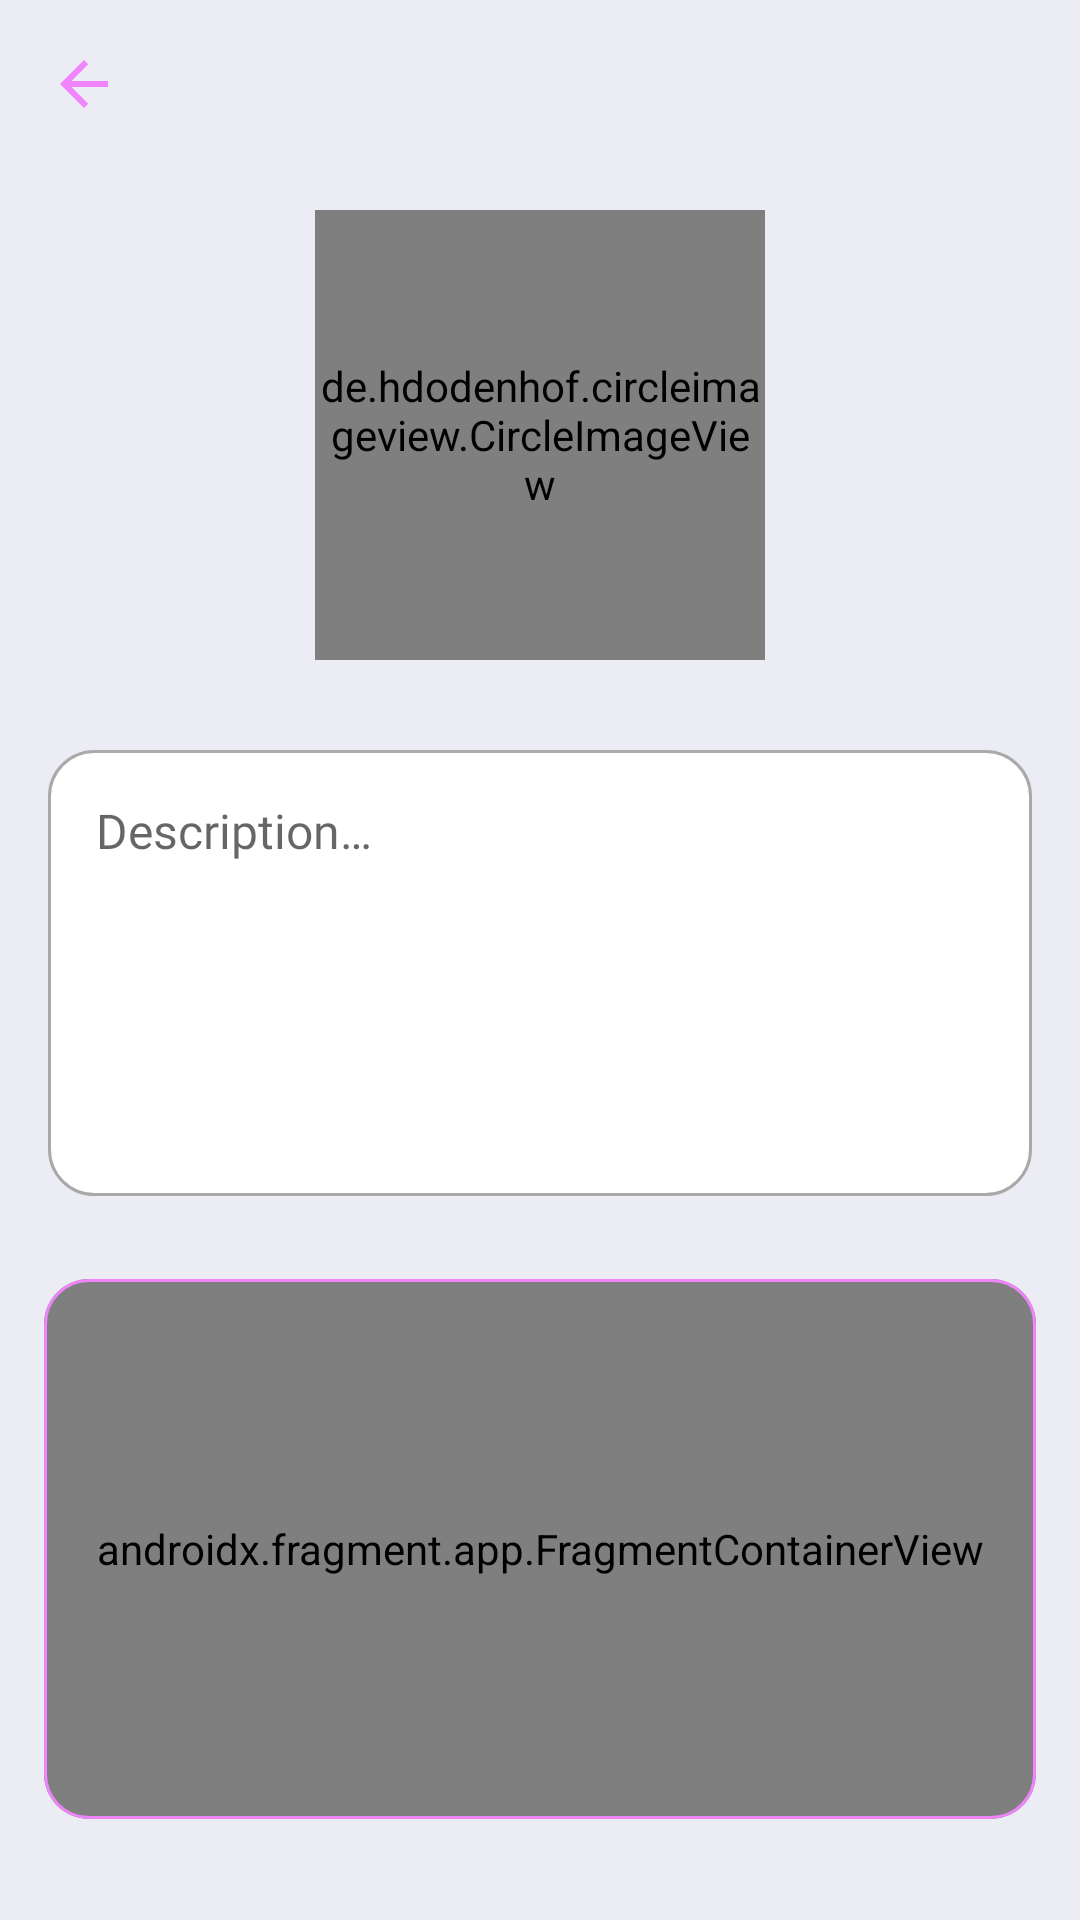

Screen size 1080x1920. Icon name, then its box in pixels as (x1, y1, x2, y2):
arrow back: (60, 60, 108, 108)
